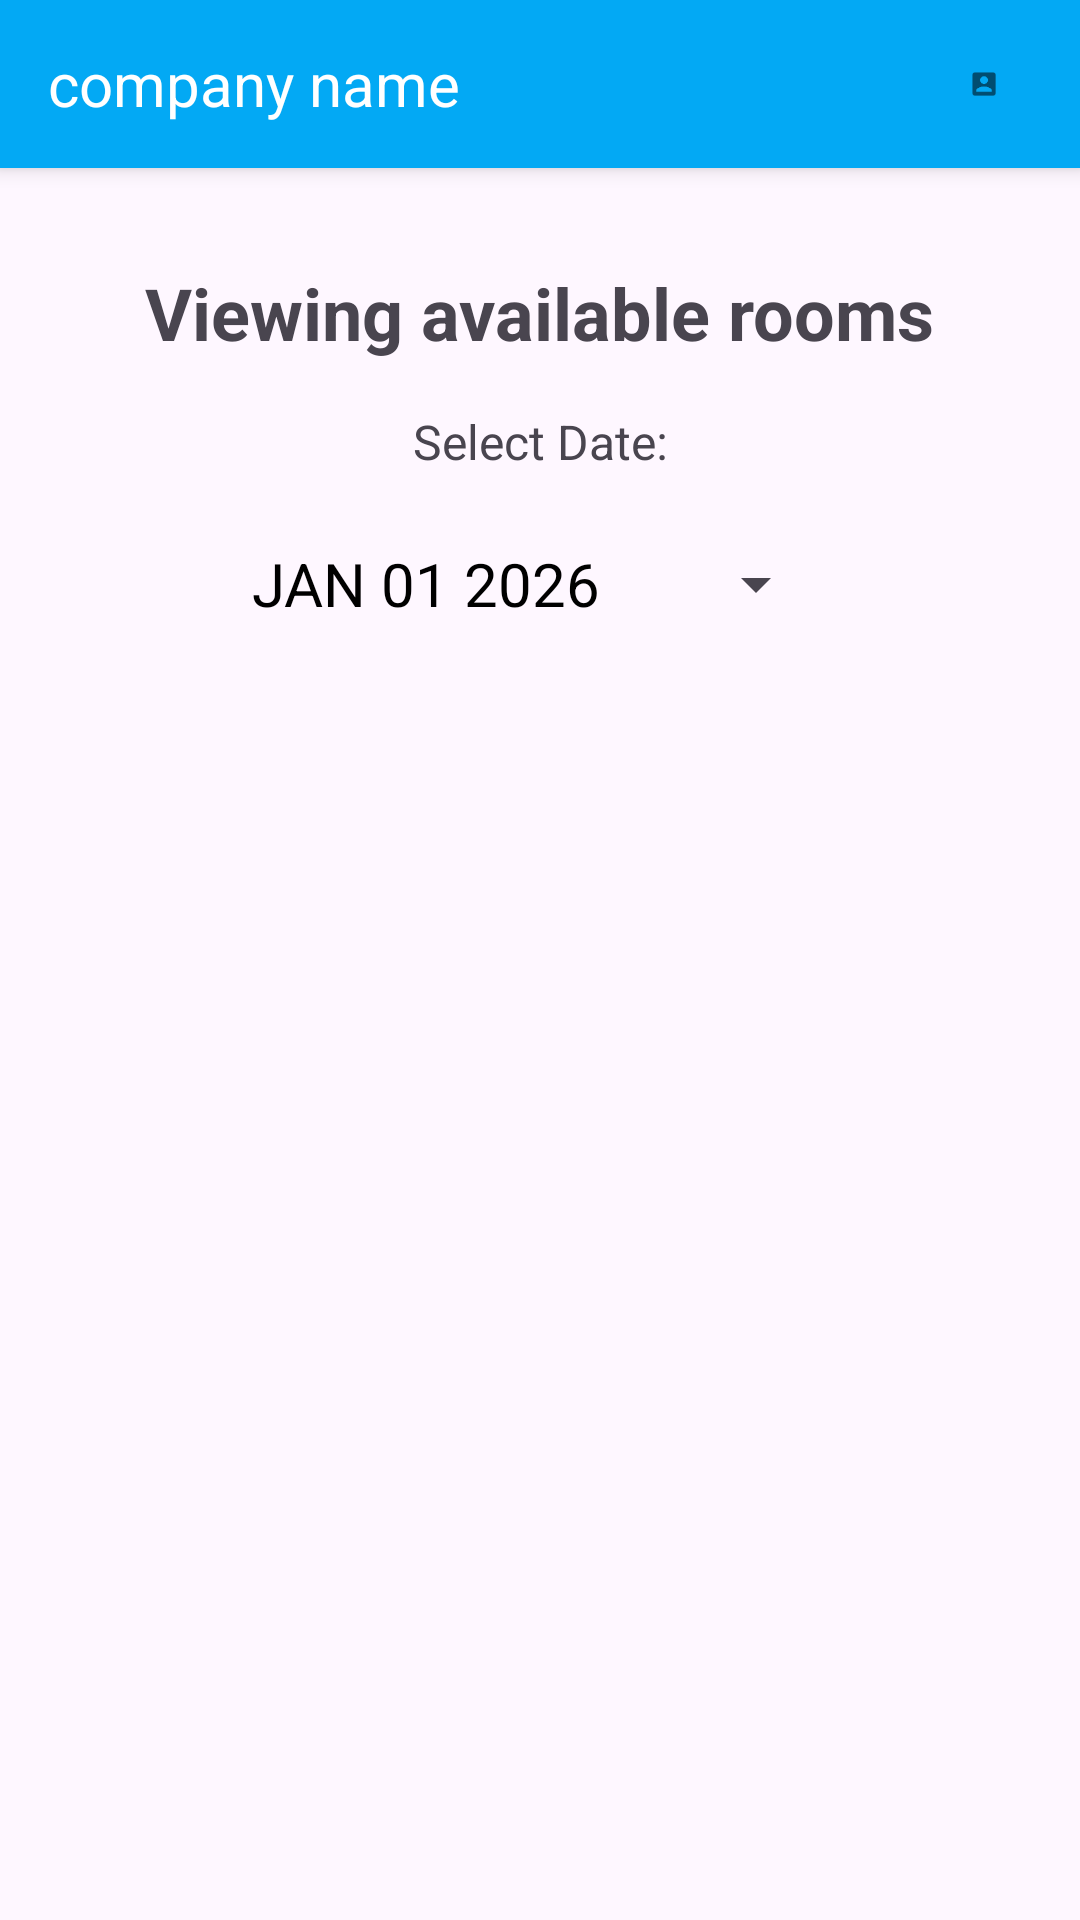

Icon bounding boxes for this 1080w x 1920h phone screenshot, format (x1, y1, x2, y2):
account box: (972, 72, 996, 96)
